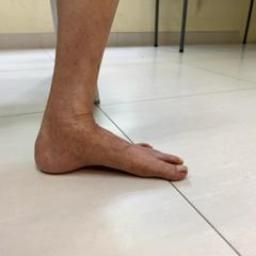Medial View -Left Foot-: (29, 97, 191, 192)
